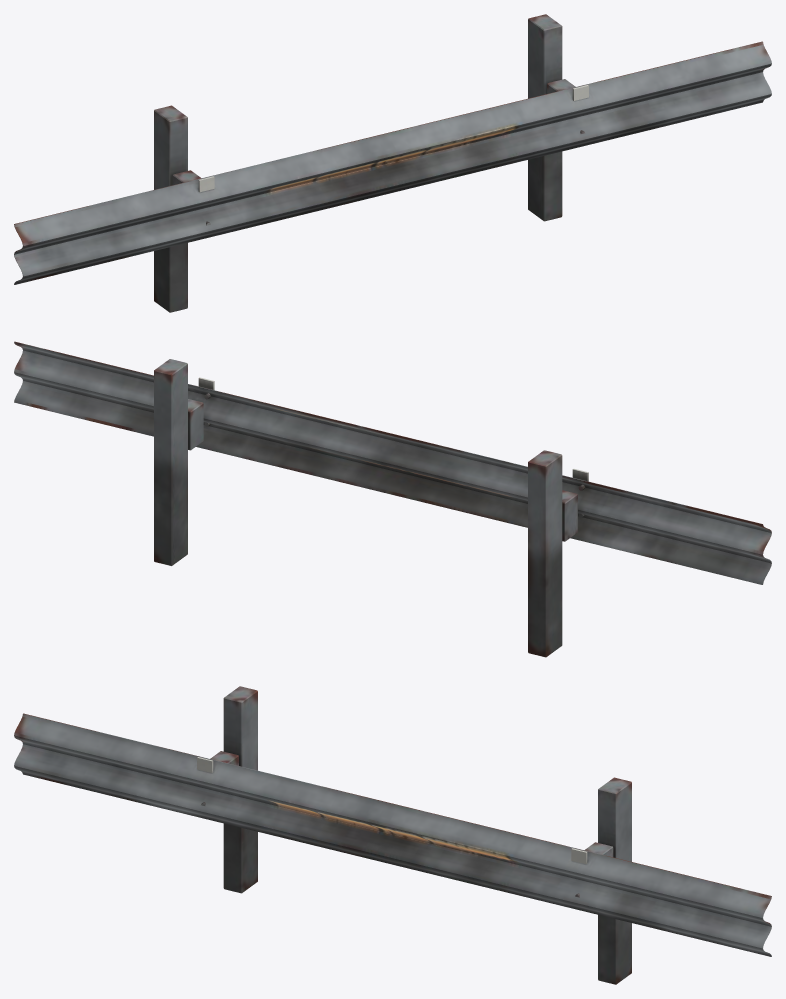
The model's file is guard_rail.glb.
3 renders of one model, top to bottom at view 1: azimuth 30°, elevation 25°; view 2: azimuth 150°, elevation 25°; view 3: azimuth 330°, elevation 25°, orthographic.
Visible parts, largest first — view 1: guard_rail; view 2: guard_rail; view 3: guard_rail.
Part boxes in pixels (x1,y1,x2,y2): guard_rail: (14,14,771,312); guard_rail: (14,341,771,657); guard_rail: (14,686,771,984).
Size of what is drawn, in the model's own units: 4 by 0.98 by 0.442.
1 material, 1 textured.
